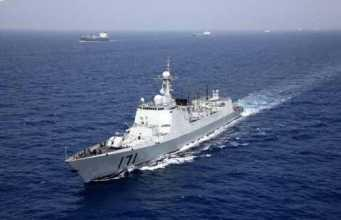warship: (60, 67, 247, 179)
